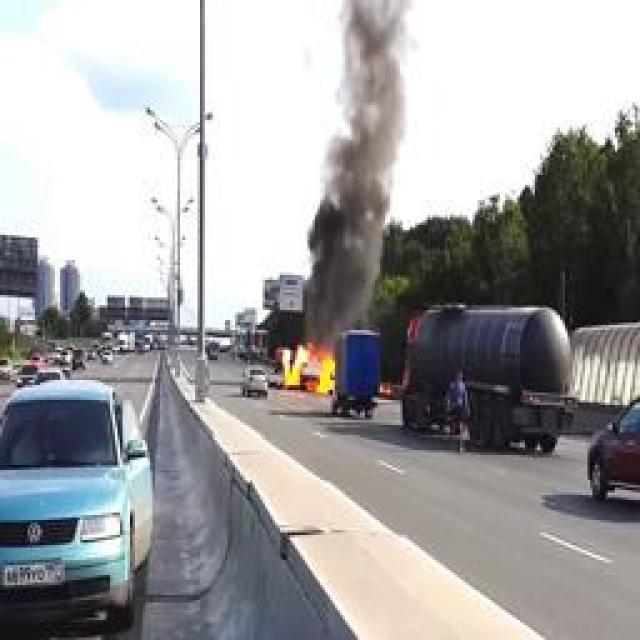Fire: (281, 341, 334, 394)
